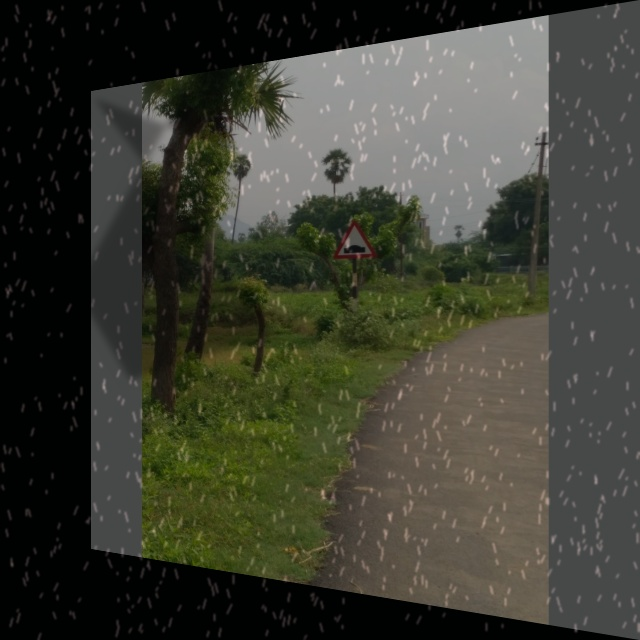Hump_or_Rough_Road: (329, 215, 378, 263)
